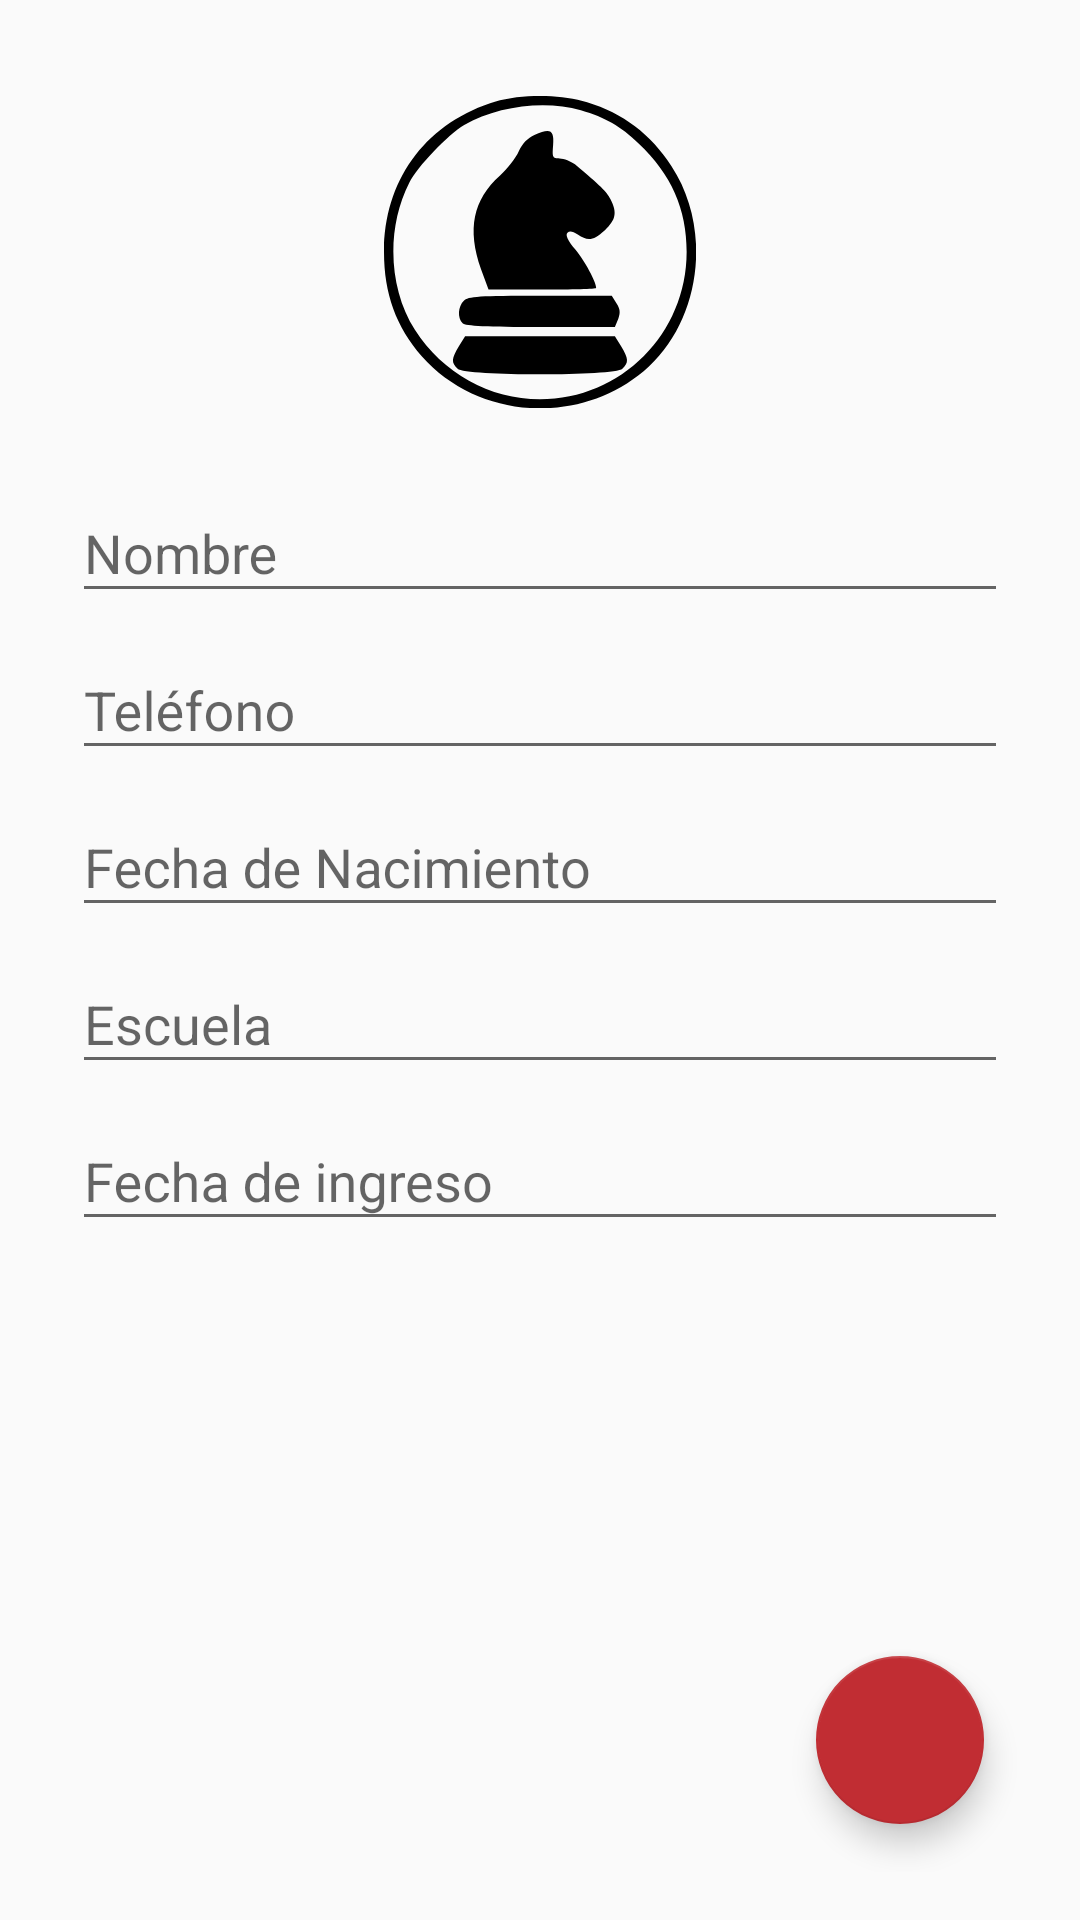

Named icons in this screenshot (1080 × 1920) and their bounding boxes, (x1, y1, x2, y2):
knight: (384, 96, 696, 408)
